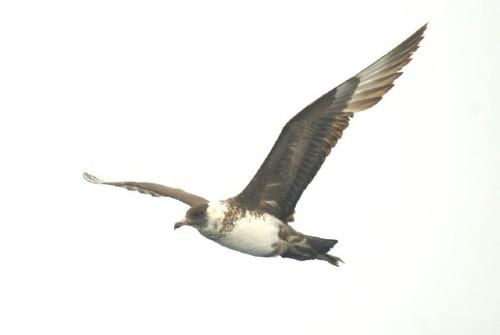bird: (83, 22, 430, 267)
